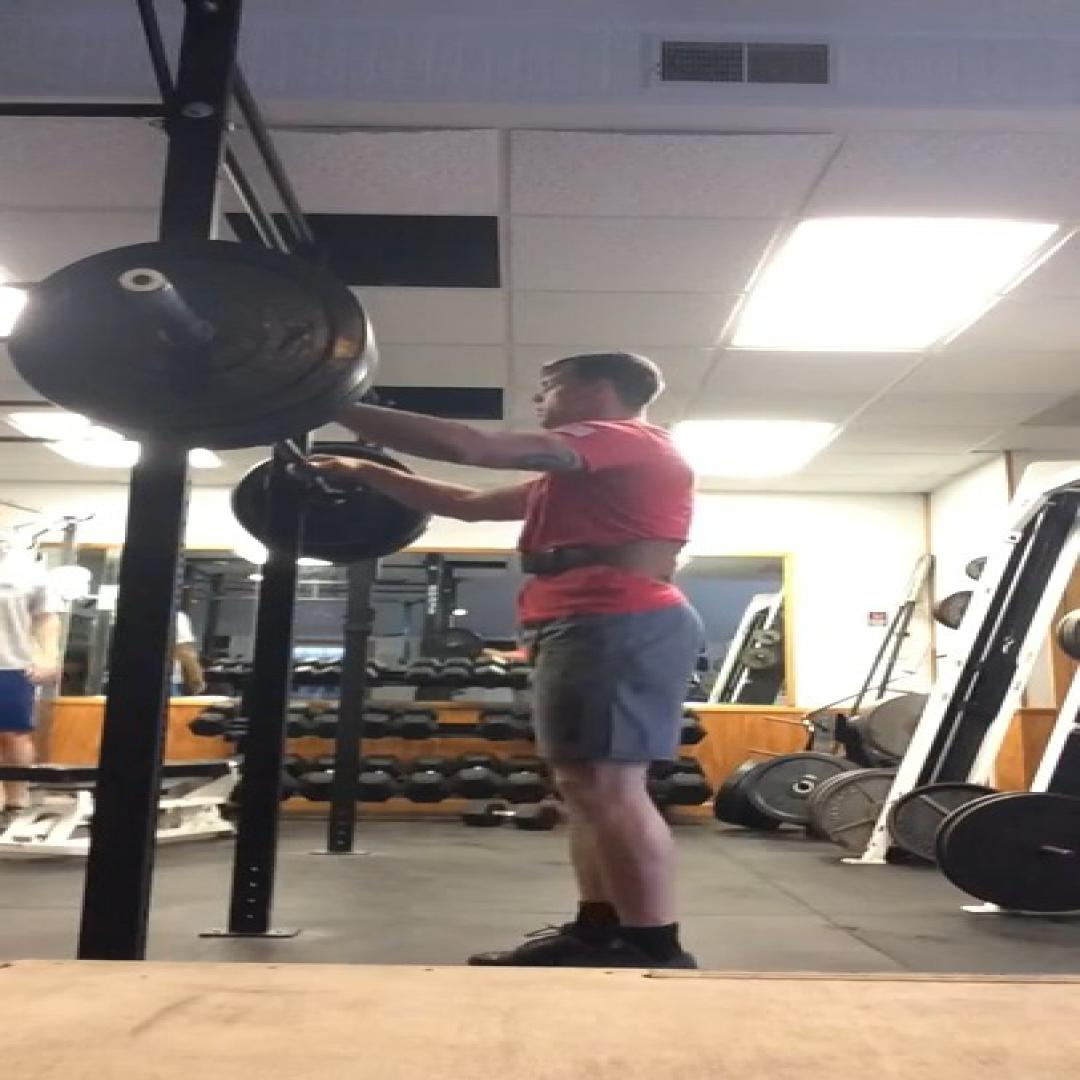Bar: (119, 267, 168, 294)
Barbell: (8, 242, 364, 428)
